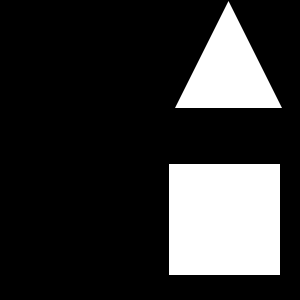circle: (169, 164, 280, 275)
triangle: (175, 1, 282, 108)
